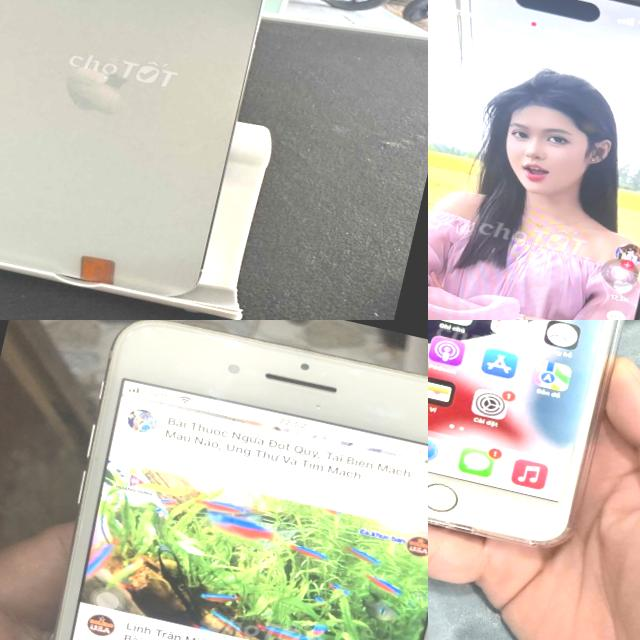gen_15: (0, 0, 321, 317), (428, 0, 640, 320)
gen_7_8: (0, 320, 428, 640), (428, 320, 622, 546)
